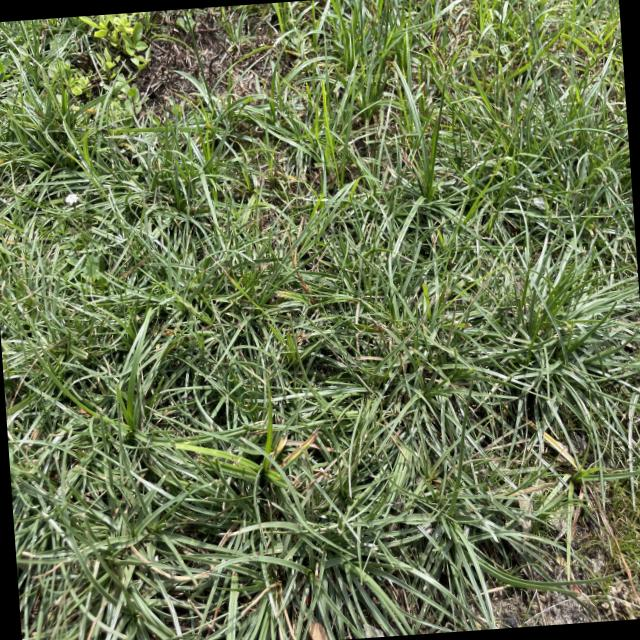cyperus: (411, 10, 480, 91)
